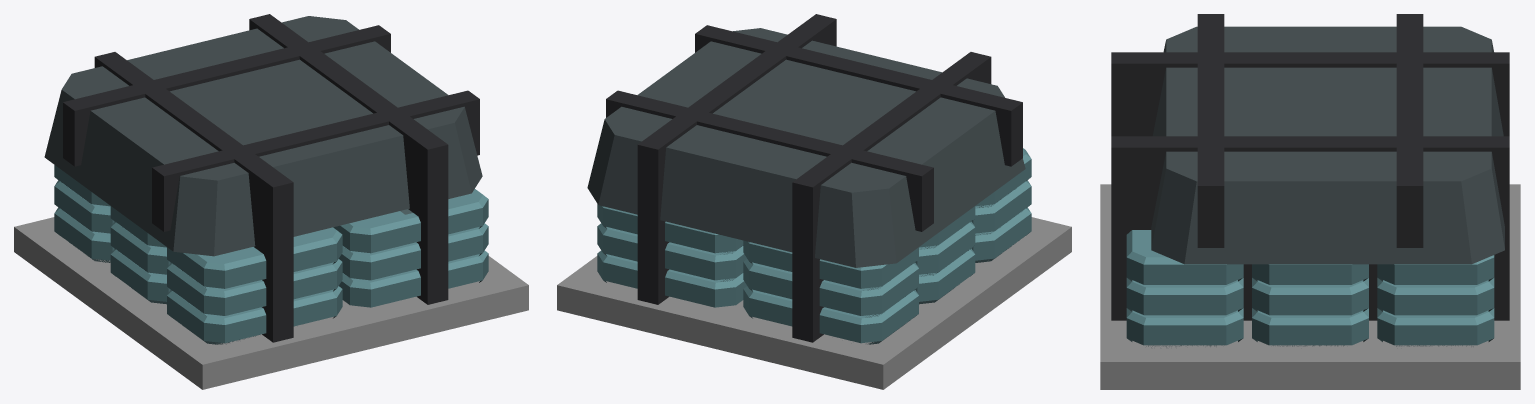
Rendered from vge_spacer_pallet_medicine.obj.
3 renders of one model, left to right at view 1: azimuth 30°, elevation 25°; view 2: azimuth 150°, elevation 25°; view 3: azimuth 270°, elevation 25°, orthographic. The views are drawn at different scales.
Visible parts, largest first — view 1: vge_spacer_pallet_medicine_31, vge_spacer_pallet_medicine_0, vge_spacer_pallet_medicine_32, vge_spacer_pallet_medicine_34, vge_spacer_pallet_medicine_5, vge_spacer_pallet_medicine_20, vge_spacer_pallet_medicine_33, vge_spacer_pallet_medicine_35, vge_spacer_pallet_medicine_1, vge_spacer_pallet_medicine_16, vge_spacer_pallet_medicine_10, vge_spacer_pallet_medicine_15 (+2 smaller); view 2: vge_spacer_pallet_medicine_31, vge_spacer_pallet_medicine_0, vge_spacer_pallet_medicine_34, vge_spacer_pallet_medicine_32, vge_spacer_pallet_medicine_15, vge_spacer_pallet_medicine_30, vge_spacer_pallet_medicine_33, vge_spacer_pallet_medicine_35, vge_spacer_pallet_medicine_11, vge_spacer_pallet_medicine_5, vge_spacer_pallet_medicine_10, vge_spacer_pallet_medicine_26 (+2 smaller); view 3: vge_spacer_pallet_medicine_31, vge_spacer_pallet_medicine_0, vge_spacer_pallet_medicine_34, vge_spacer_pallet_medicine_32, vge_spacer_pallet_medicine_20, vge_spacer_pallet_medicine_30, vge_spacer_pallet_medicine_25, vge_spacer_pallet_medicine_33, vge_spacer_pallet_medicine_35, vge_spacer_pallet_medicine_16, vge_spacer_pallet_medicine_26, vge_spacer_pallet_medicine_21.
Part boxes in pixels (x1,y1,x2,y2): vge_spacer_pallet_medicine_31: [44, 16, 482, 256]; vge_spacer_pallet_medicine_0: [14, 217, 528, 389]; vge_spacer_pallet_medicine_32: [94, 52, 293, 342]; vge_spacer_pallet_medicine_34: [249, 14, 448, 304]; vge_spacer_pallet_medicine_5: [167, 235, 342, 343]; vge_spacer_pallet_medicine_20: [333, 199, 488, 307]; vge_spacer_pallet_medicine_33: [152, 90, 479, 231]; vge_spacer_pallet_medicine_35: [63, 25, 390, 166]; vge_spacer_pallet_medicine_1: [167, 227, 342, 324]; vge_spacer_pallet_medicine_16: [340, 189, 488, 289]; vge_spacer_pallet_medicine_10: [110, 206, 170, 301]; vge_spacer_pallet_medicine_15: [54, 165, 114, 260]; vge_spacer_pallet_medicine_31: [587, 28, 1025, 267]; vge_spacer_pallet_medicine_0: [557, 217, 1071, 389]; vge_spacer_pallet_medicine_34: [637, 14, 836, 304]; vge_spacer_pallet_medicine_32: [792, 52, 991, 342]; vge_spacer_pallet_medicine_15: [743, 240, 918, 343]; vge_spacer_pallet_medicine_30: [597, 204, 746, 307]; vge_spacer_pallet_medicine_33: [695, 25, 1022, 166]; vge_spacer_pallet_medicine_35: [606, 90, 933, 231]; vge_spacer_pallet_medicine_11: [743, 241, 918, 324]; vge_spacer_pallet_medicine_5: [971, 159, 1031, 260]; vge_spacer_pallet_medicine_10: [915, 206, 975, 301]; vge_spacer_pallet_medicine_26: [597, 206, 743, 289]; vge_spacer_pallet_medicine_31: [1151, 26, 1504, 264]; vge_spacer_pallet_medicine_0: [1100, 184, 1520, 389]; vge_spacer_pallet_medicine_34: [1111, 136, 1509, 320]; vge_spacer_pallet_medicine_32: [1111, 52, 1509, 136]; vge_spacer_pallet_medicine_20: [1126, 257, 1243, 345]; vge_spacer_pallet_medicine_30: [1377, 257, 1494, 345]; vge_spacer_pallet_medicine_25: [1252, 264, 1368, 345]; vge_spacer_pallet_medicine_33: [1197, 14, 1224, 247]; vge_spacer_pallet_medicine_35: [1396, 14, 1423, 247]; vge_spacer_pallet_medicine_16: [1126, 230, 1243, 325]; vge_spacer_pallet_medicine_26: [1377, 255, 1494, 325]; vge_spacer_pallet_medicine_21: [1252, 264, 1368, 325].
Size of the model in its own units: 1.9 by 1 by 1.9.
